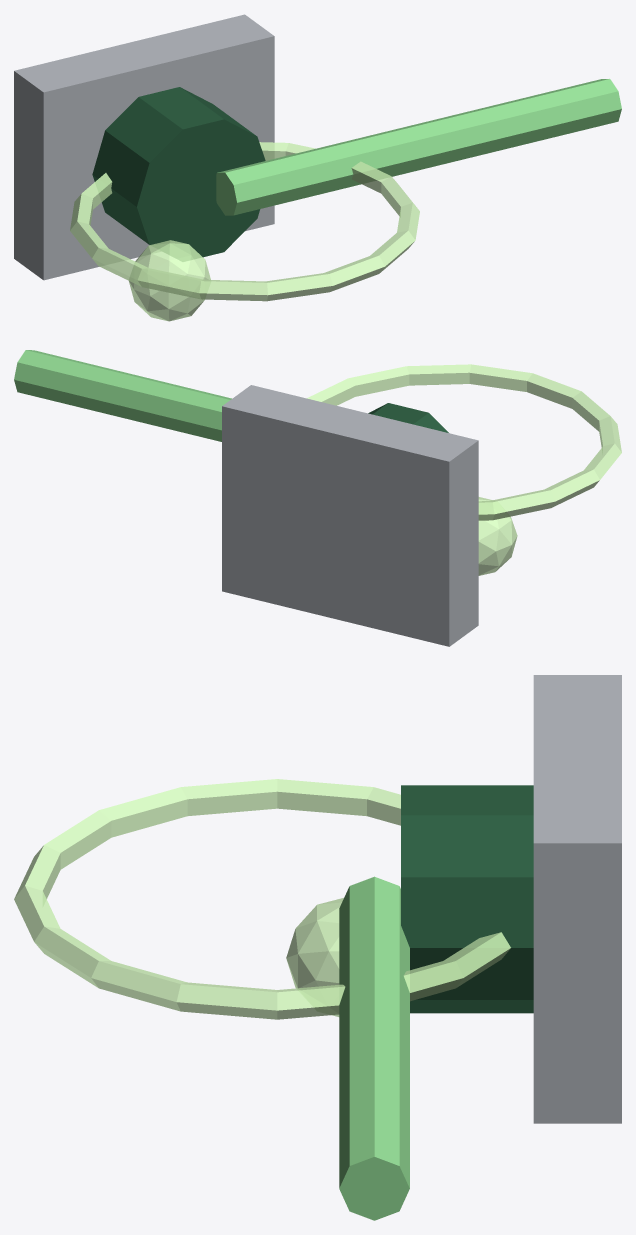
Rendered from 09_skyship_defense.glb.
3 renders of one model, top to bottom at view 1: azimuth 30°, elevation 25°; view 2: azimuth 150°, elevation 25°; view 3: azimuth 270°, elevation 25°, orthographic. The views are drawn at different scales.
Parts seen in each view (by area): view 1: weapon_mount_base, turret_pivot, cannon_barrel, shield_projector_ring, targeting_core; view 2: weapon_mount_base, shield_projector_ring, cannon_barrel, targeting_core, turret_pivot; view 3: weapon_mount_base, turret_pivot, shield_projector_ring, cannon_barrel, targeting_core.
Part boxes in pixels (<box>): weapon_mount_base: <box>14,14,274,280</box>; turret_pivot: <box>92,87,265,261</box>; cannon_barrel: <box>216,79,621,215</box>; shield_projector_ring: <box>70,142,419,301</box>; targeting_core: <box>129,240,210,321</box>; weapon_mount_base: <box>222,385,478,646</box>; shield_projector_ring: <box>307,364,621,520</box>; cannon_barrel: <box>14,350,231,441</box>; targeting_core: <box>478,497,517,575</box>; turret_pivot: <box>368,403,448,432</box>; weapon_mount_base: <box>533,675,621,1123</box>; turret_pivot: <box>401,785,533,1013</box>; shield_projector_ring: <box>14,779,510,1019</box>; cannon_barrel: <box>339,876,409,1220</box>; targeting_core: <box>286,898,343,1016</box>.
Bounding box in the file's own units: 1.39 × 0.4745 × 0.8944.
